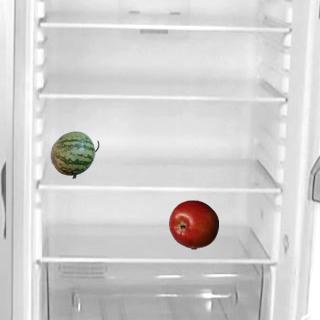Apple Braeburn: (168, 199, 218, 249)
Watermelon: (49, 129, 99, 179)
